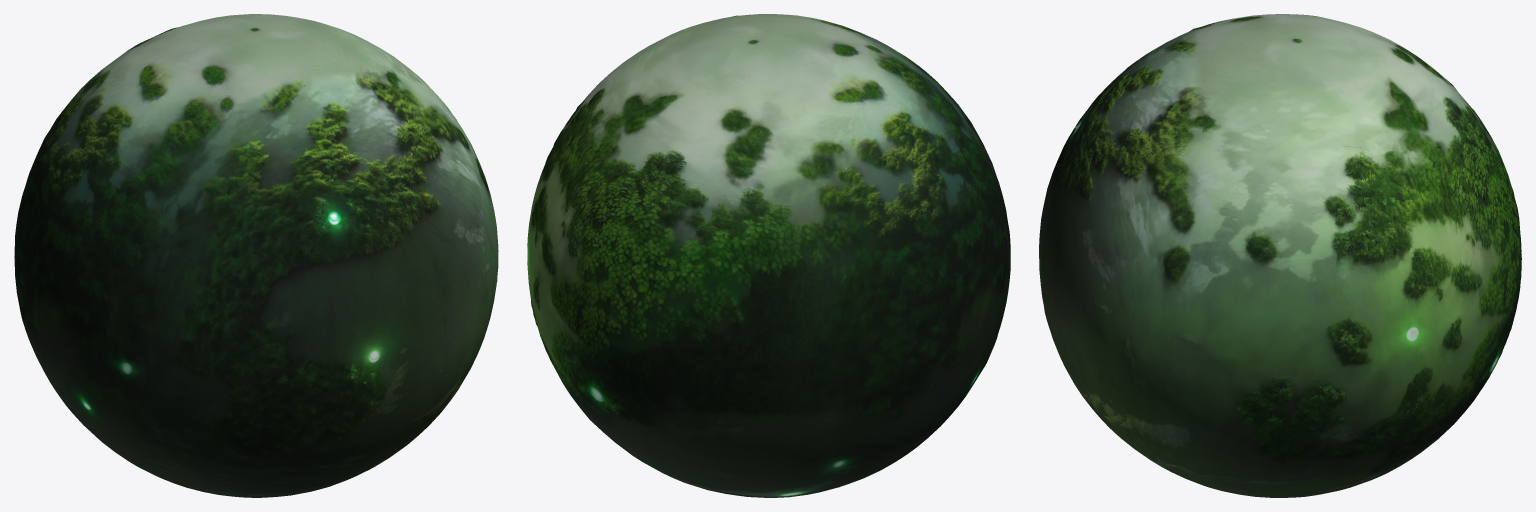
File: jungle_planet_5.glb
3 renders of one model, left to right at view 1: azimuth 30°, elevation 25°; view 2: azimuth 150°, elevation 25°; view 3: azimuth 270°, elevation 25°, orthographic.
Parts seen in each view (by area): view 1: Mesh_0.036; view 2: Mesh_0.036; view 3: Mesh_0.036.
Boxes of the visible parts, <box> form: Mesh_0.036: <box>14,14,498,497</box>; Mesh_0.036: <box>527,14,1010,497</box>; Mesh_0.036: <box>1039,14,1521,497</box>.
Bounding box in the file's own units: 2 × 2 × 2.
1 material, 1 textured.
